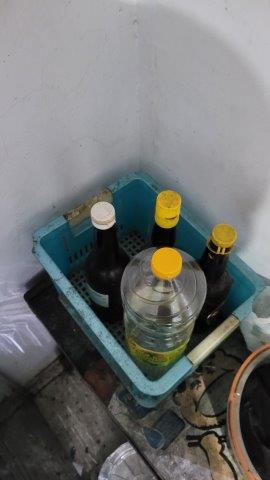botolkaca: (74, 192, 243, 353)
